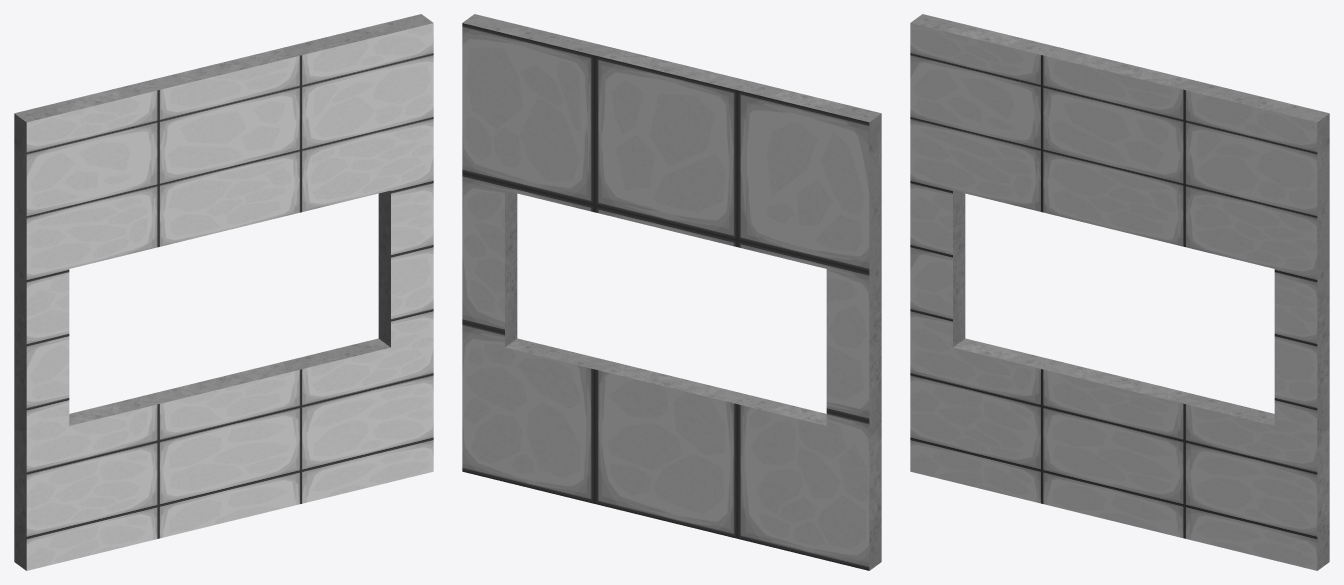
Rendered from SM_Inner_Wall_Wimdow_A.fbx.
3 views of the same model, side by side, from view 1: azimuth 30°, elevation 25°; view 2: azimuth 150°, elevation 25°; view 3: azimuth 330°, elevation 25° (orthographic).
Visible parts, largest first — view 1: SM_Inner_Wall_Wimdow_A; view 2: SM_Inner_Wall_Wimdow_A; view 3: SM_Inner_Wall_Wimdow_A.
Part boxes in pixels (box(x1,y1,x2,y2)): SM_Inner_Wall_Wimdow_A: box(14, 14, 433, 570); SM_Inner_Wall_Wimdow_A: box(462, 14, 881, 570); SM_Inner_Wall_Wimdow_A: box(910, 14, 1329, 570).
Bounding box in the file's own units: 380 × 400 × 20.
